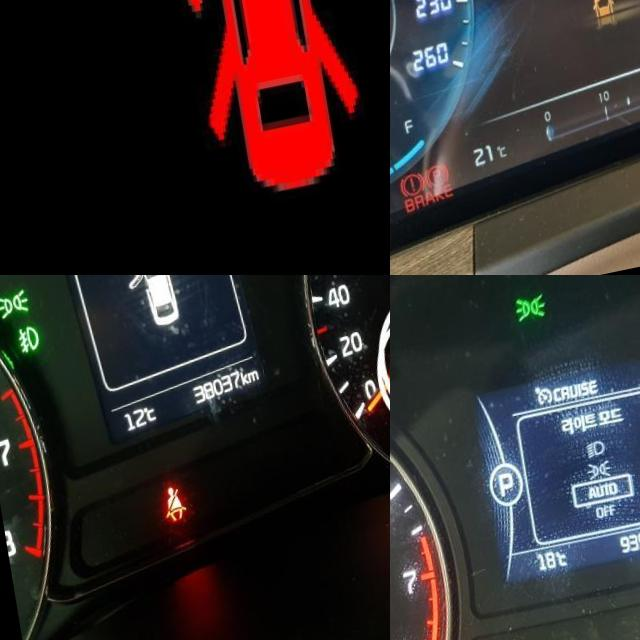FrontFogLight: (7, 325, 32, 356)
SideLamp: (507, 310, 541, 343), (0, 286, 22, 322)
